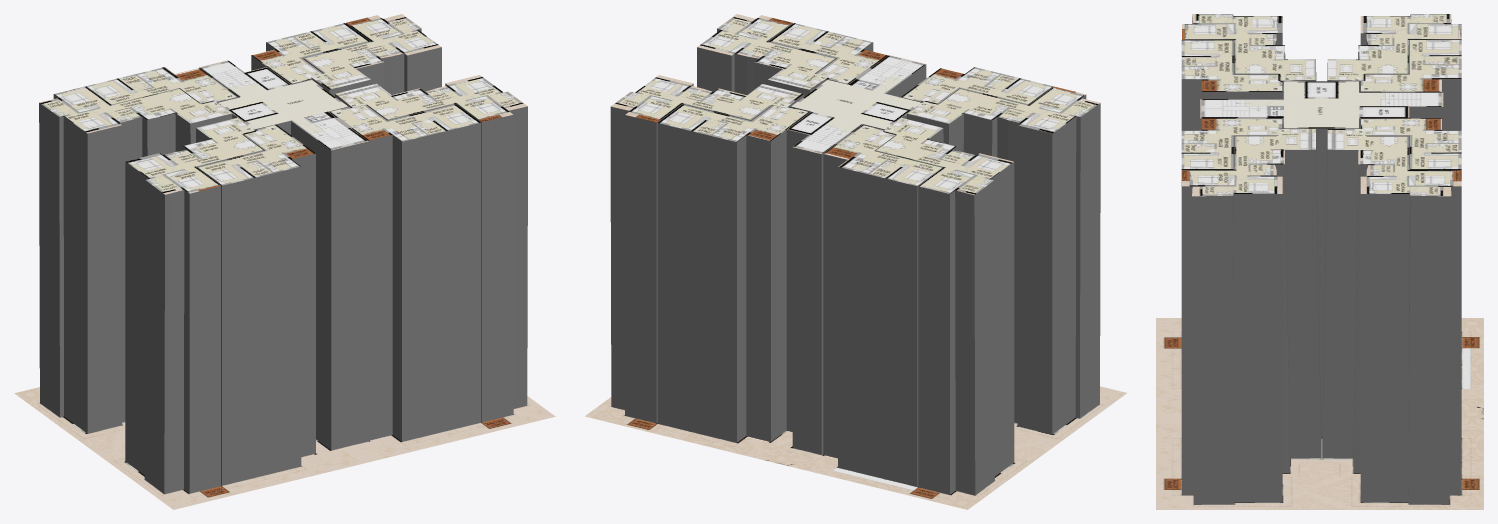
File: tower map.gltf
3 views of the same model, side by side, from view 1: azimuth 30°, elevation 25°; view 2: azimuth 150°, elevation 25°; view 3: azimuth 270°, elevation 25° (orthographic). The views are drawn at different scales.
Parts seen in each view (by area): view 1: 1 BHK.003, 2 BHK.002, 2 BHK, 1 BHK.002, middle piece, 2 BHK.003, Plane, 2 BHK.001, 1 BHK.001, 1 BHK; view 2: 1 BHK.001, 2 BHK, 2 BHK.002, 1 BHK, 2 BHK.001, middle piece, Plane, 2 BHK.003, 1 BHK.003, 1 BHK.002; view 3: 2 BHK.001, 2 BHK.003, Plane, middle piece, 2 BHK, 2 BHK.002, 1 BHK.002, 1 BHK, 1 BHK.003, 1 BHK.001.
Boxes of the visible parts, x1,y1,x2,y2 form: 1 BHK.003: (329,104,481,441); 2 BHK.002: (125,117,263,494); 2 BHK: (39,86,232,433); 1 BHK.002: (197,125,315,485); middle piece: (199,60,368,450); 2 BHK.003: (335,75,527,422); Plane: (14,387,555,509); 2 BHK.001: (303,14,441,96); 1 BHK.001: (251,23,369,84); 1 BHK: (86,67,238,104); 1 BHK.001: (657,104,809,442); 2 BHK: (876,118,1014,495); 2 BHK.002: (907,86,1100,434); 1 BHK: (823,125,942,486); 2 BHK.001: (610,75,804,423); middle piece: (786,55,926,454); Plane: (585,386,1126,509); 2 BHK.003: (697,14,835,96); 1 BHK.003: (769,23,887,84); 1 BHK.002: (901,67,1053,104); 2 BHK.001: (1322,128,1461,504); 2 BHK.003: (1182,128,1321,504); Plane: (1156,318,1483,509); middle piece: (1200,81,1443,436); 2 BHK: (1327,14,1461,92); 2 BHK.002: (1182,14,1316,99); 1 BHK.002: (1181,40,1282,130); 1 BHK: (1361,40,1461,130); 1 BHK.003: (1181,118,1282,478); 1 BHK.001: (1361,118,1461,170).
Bounding box in the file's own units: 2 × 1.5 × 1.44.
3 materials, 2 textured.
